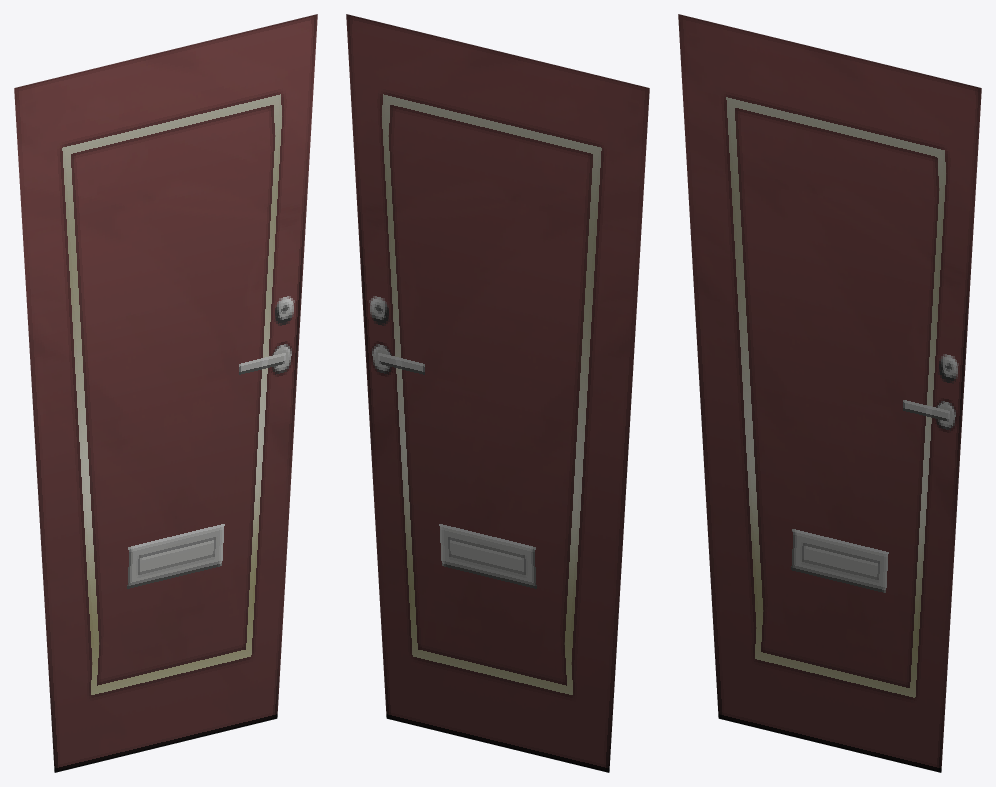
File: Door.glb
3 views of the same model, side by side, from view 1: azimuth 30°, elevation 25°; view 2: azimuth 150°, elevation 25°; view 3: azimuth 330°, elevation 25° (orthographic).
Visible parts, largest first — view 1: Door; view 2: Door; view 3: Door.
Boxes of the visible parts, x1,y1,x2,y2 form: Door: [14, 14, 317, 772]; Door: [346, 14, 649, 772]; Door: [678, 14, 981, 772].
Bounding box in the file's own units: 0.3073 × 0.6718 × 0.
1 material, 1 textured.
